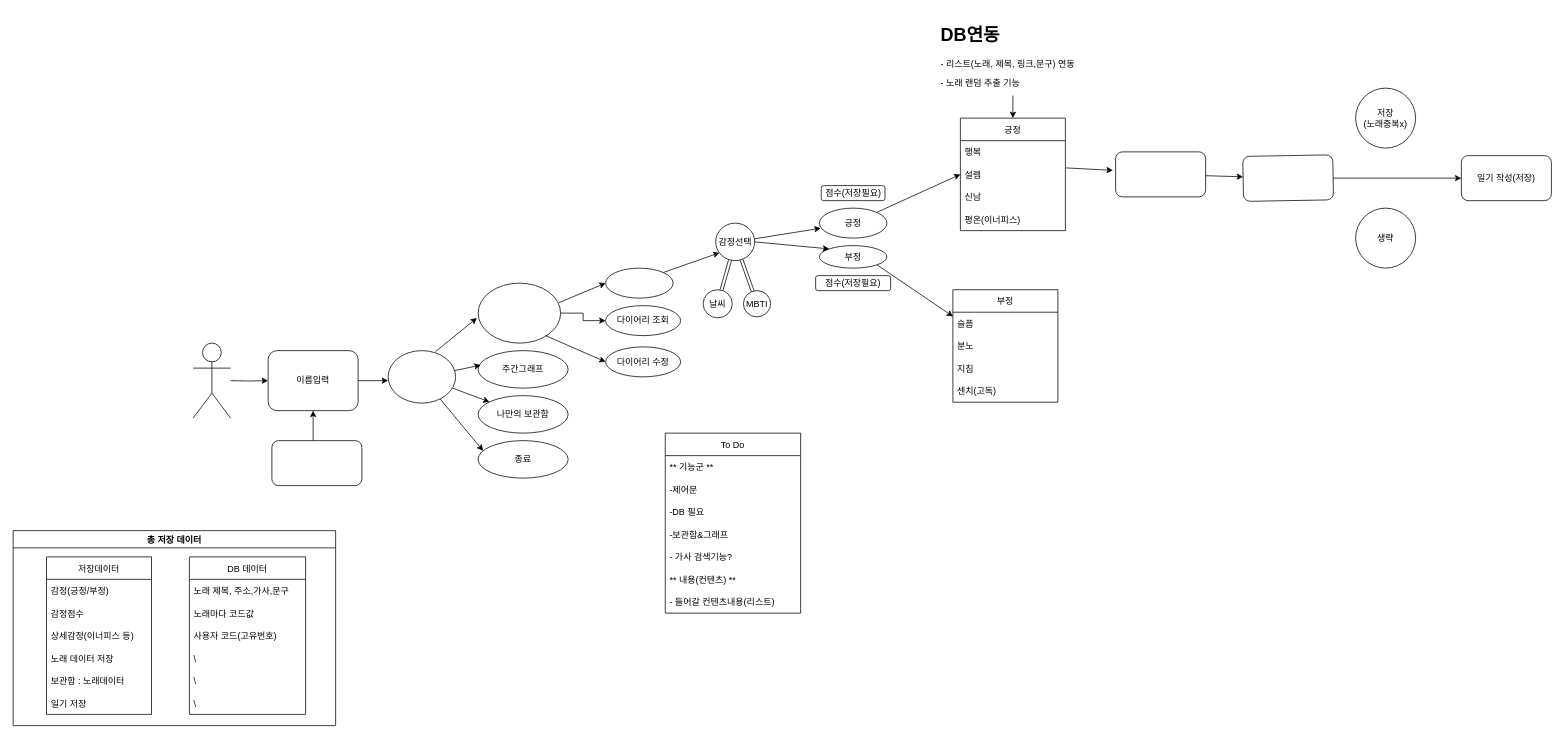
Image size: 1565x739. Some labels were removed from this diagram. The centre of each missing label's shape, as x and y in pixels:
Actor: pixel 211 380
고유번호 부여: pixel 316 463
노래, 제목, 링크, 문구출력: pixel 1160 174
다이어리: pixel 519 312
다이어리 작성: pixel 639 282
메뉴선택: pixel 421 376
보관함 여부 (y/n): pixel 1288 177
